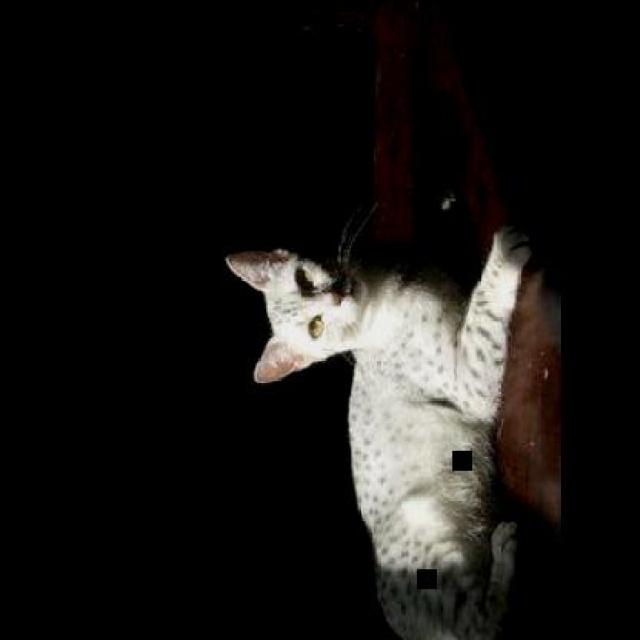unauthorized: (223, 217, 534, 638)
